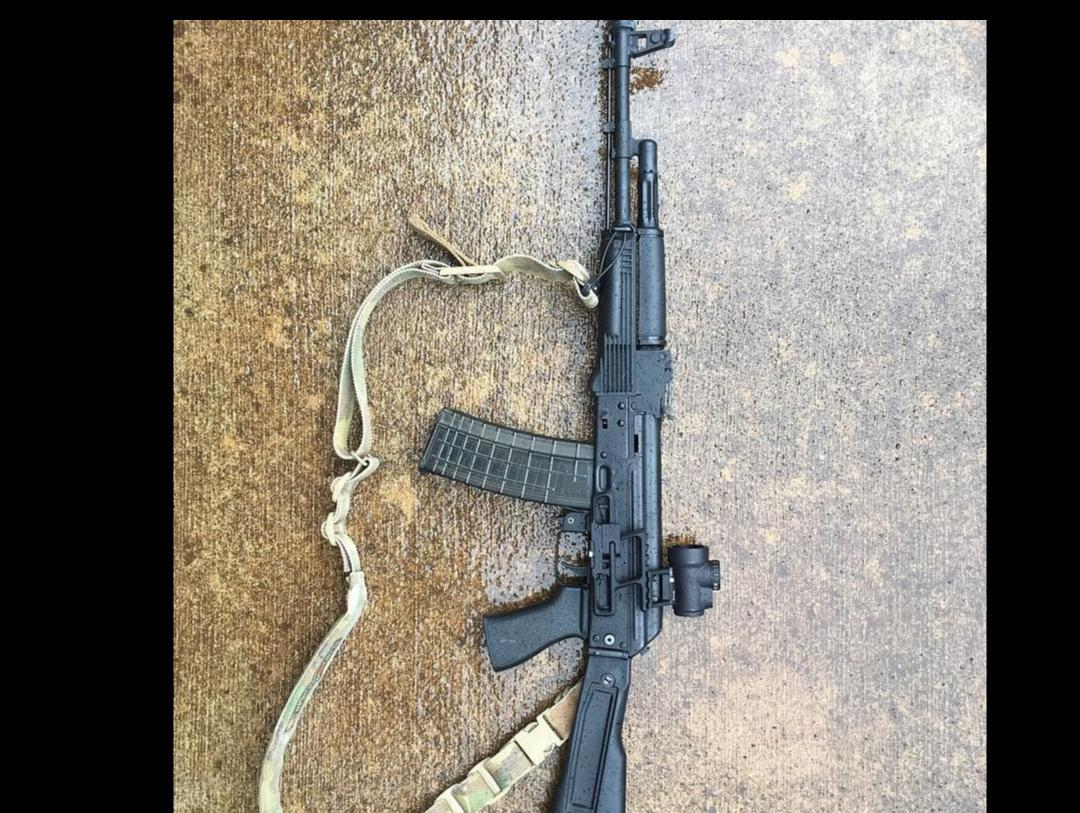larga: (417, 21, 722, 813)
